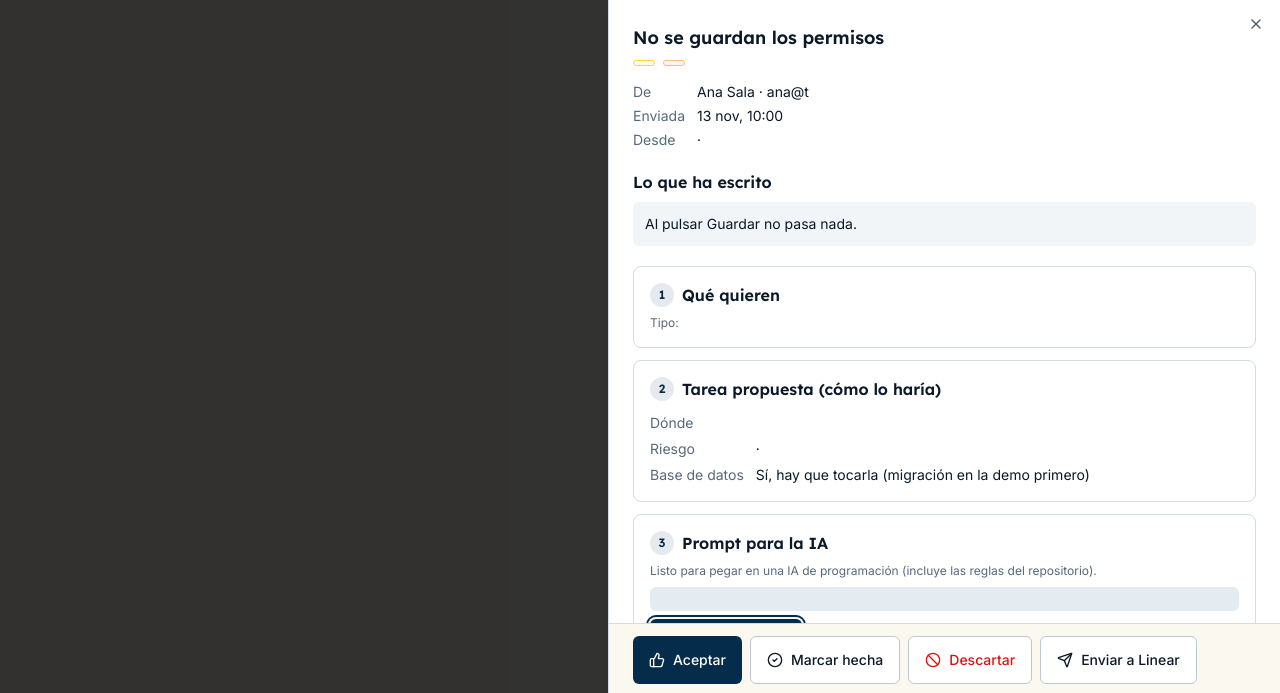
Scenario: DetalleTicket › Enviar a Linear › pide confirmación antes de enviar (y Cancelar no envía nada)
The width and height of the screenshot is (1280, 693).
Click the button "Enviar a Linear": (1118, 660) [1040,636,1197,684]
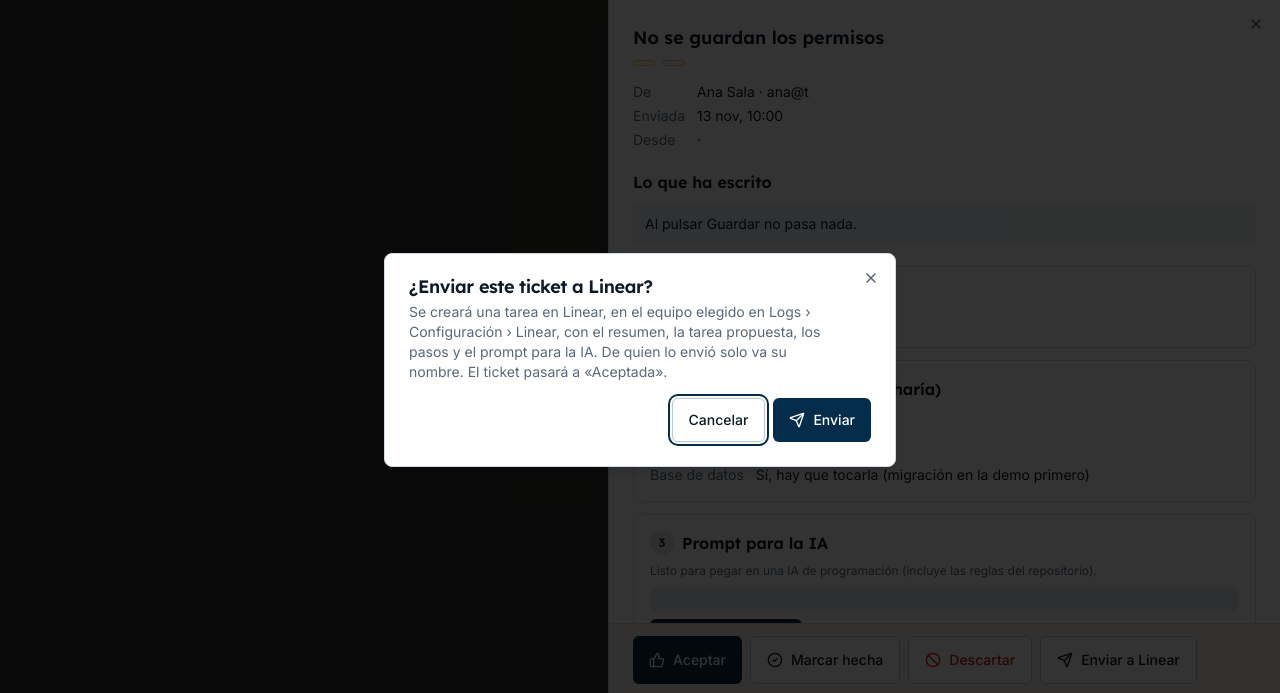
Check: the text "El ticket pasará a «Aceptada»" is shown, box [464,363,667,380]
Click the button "Cancelar": (718, 420) [672,398,765,442]
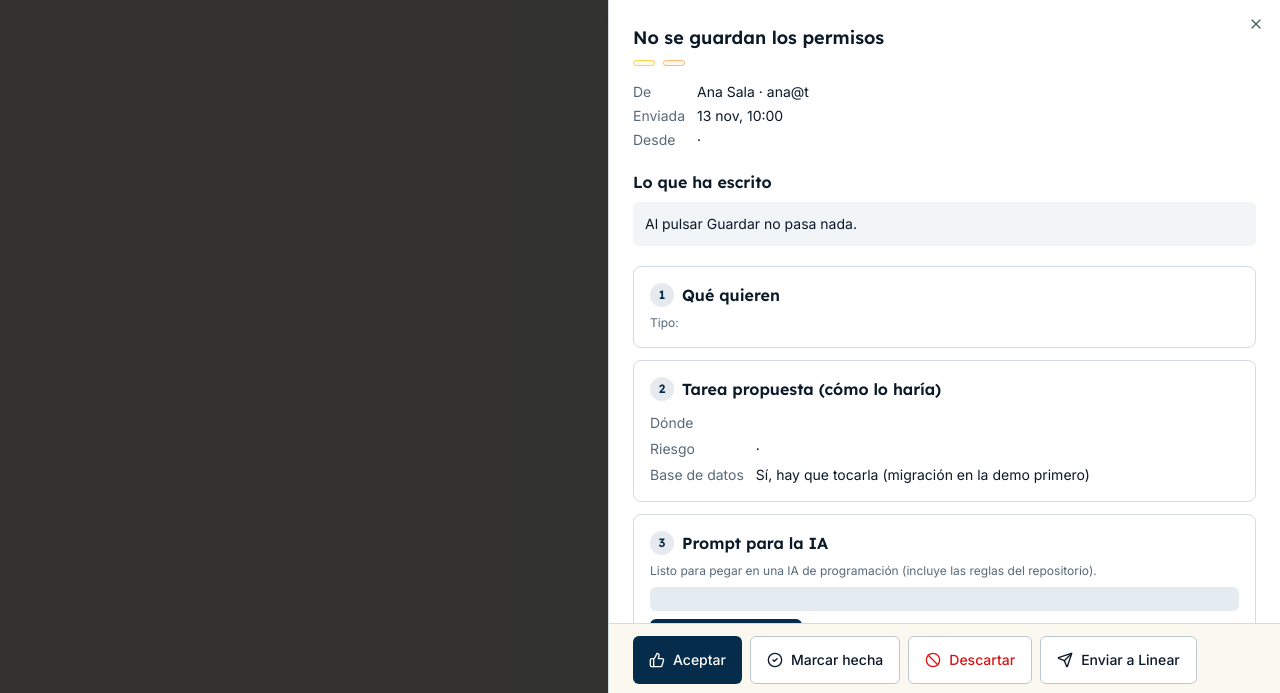
Check: the heading "¿Enviar este ticket a Linear?" is gone
